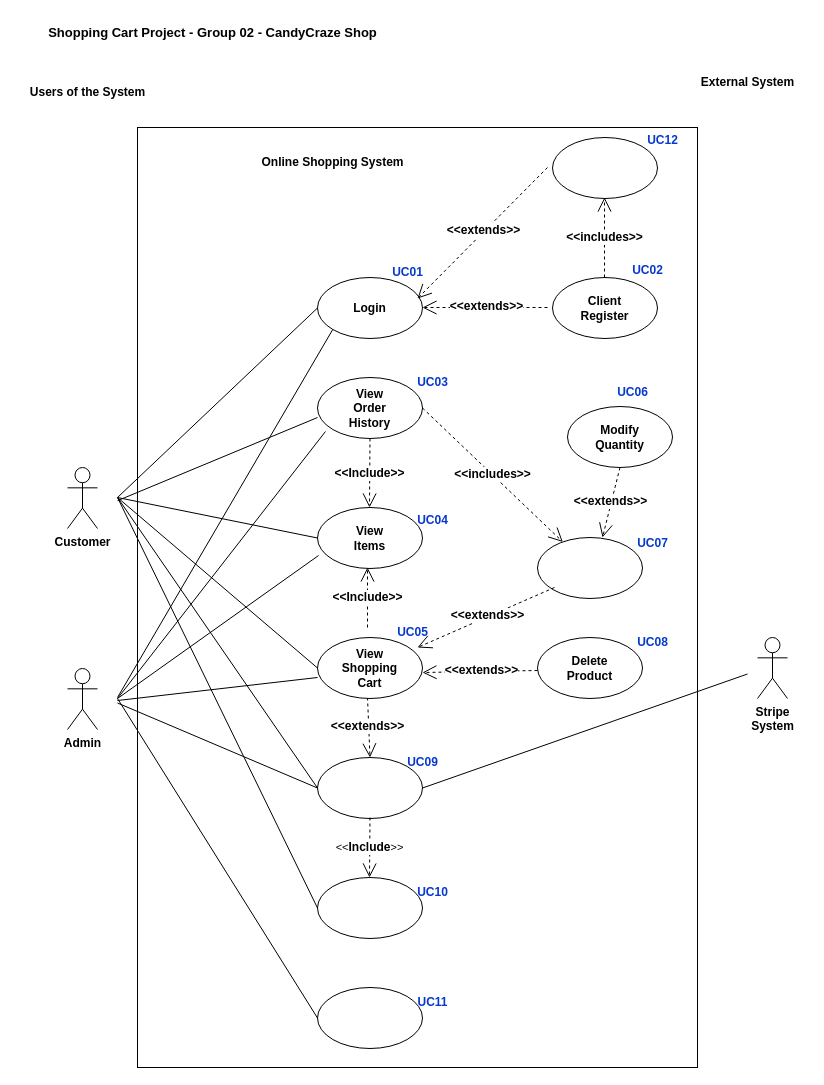
The diagram is 824 pixels wide and 1085 high, and some of its shapes have lost their labels. Here are the shapes that lost their labels. From the top down, the box of each, then its label:
(552, 136, 658, 198): Privacy Agreement
(536, 536, 642, 598): Add Product
(316, 756, 422, 818): Make Purchase
(316, 876, 422, 938): Checkout
(316, 986, 422, 1048): Update Products
